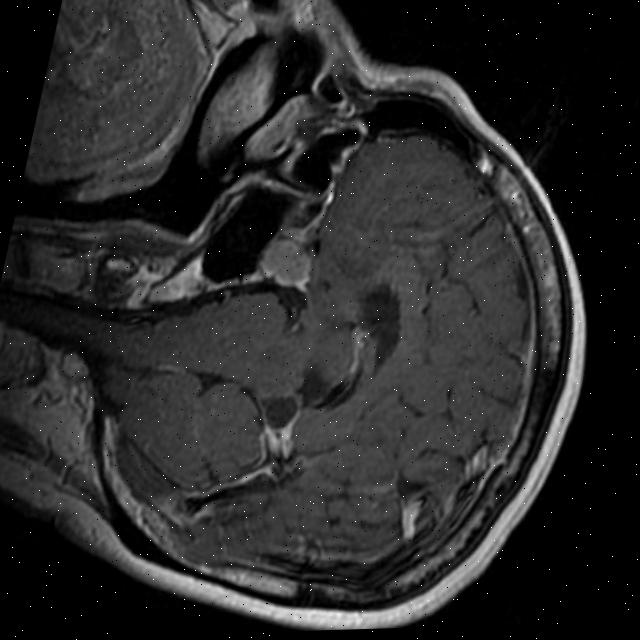Pituitary: (255, 232, 318, 294)
